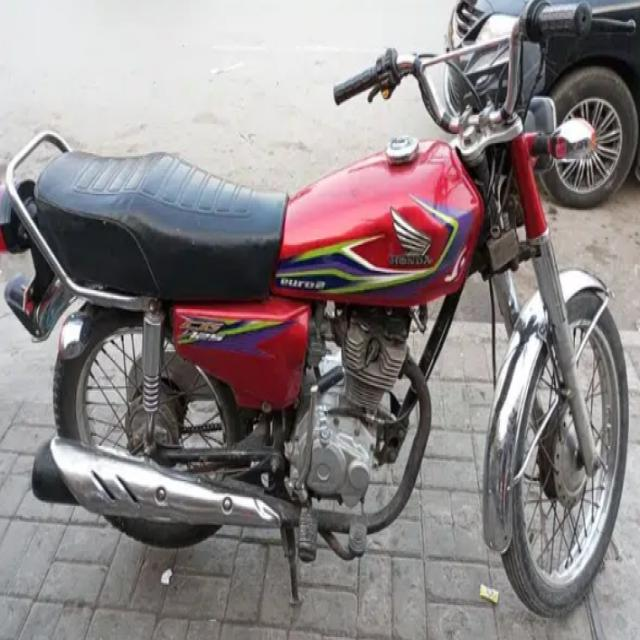Bike: (3, 97, 640, 608)
